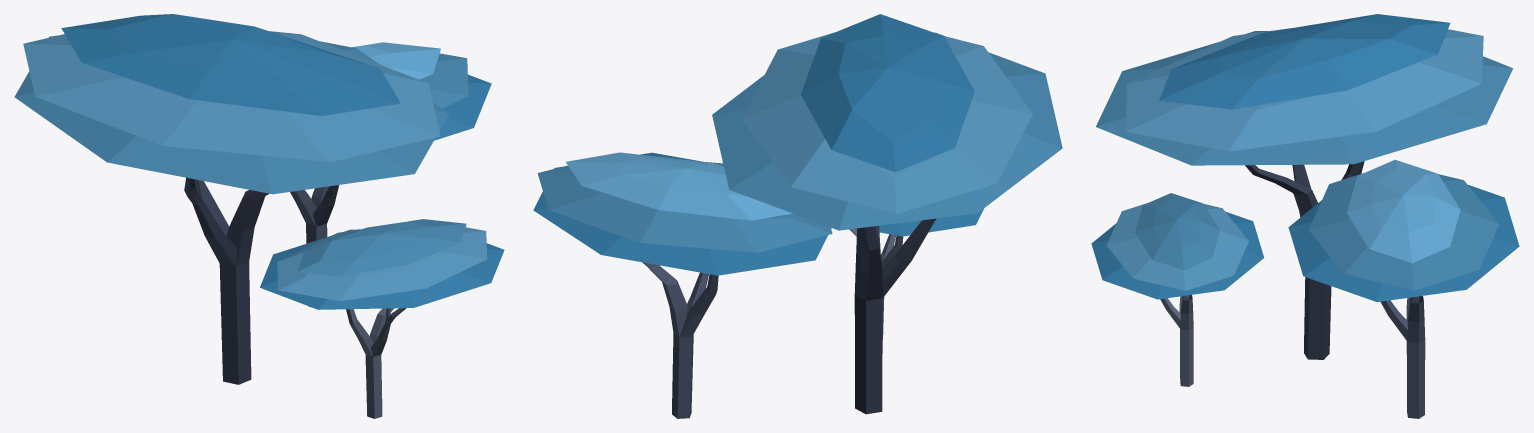
File: tumbuhan1.fbx
3 views of the same model, side by side, from view 1: azimuth 30°, elevation 25°; view 2: azimuth 150°, elevation 25°; view 3: azimuth 270°, elevation 25° (orthographic). The views are drawn at different scales.
Visible parts, largest first — view 1: Cylinder; view 2: Cylinder; view 3: Cylinder.
Boxes of the visible parts, box(x1,y1,x2,y2) form: Cylinder: box(14, 14, 504, 418); Cylinder: box(533, 14, 1062, 418); Cylinder: box(1091, 14, 1519, 418).
Bounding box in the file's own units: 5305 × 3860 × 4809.
